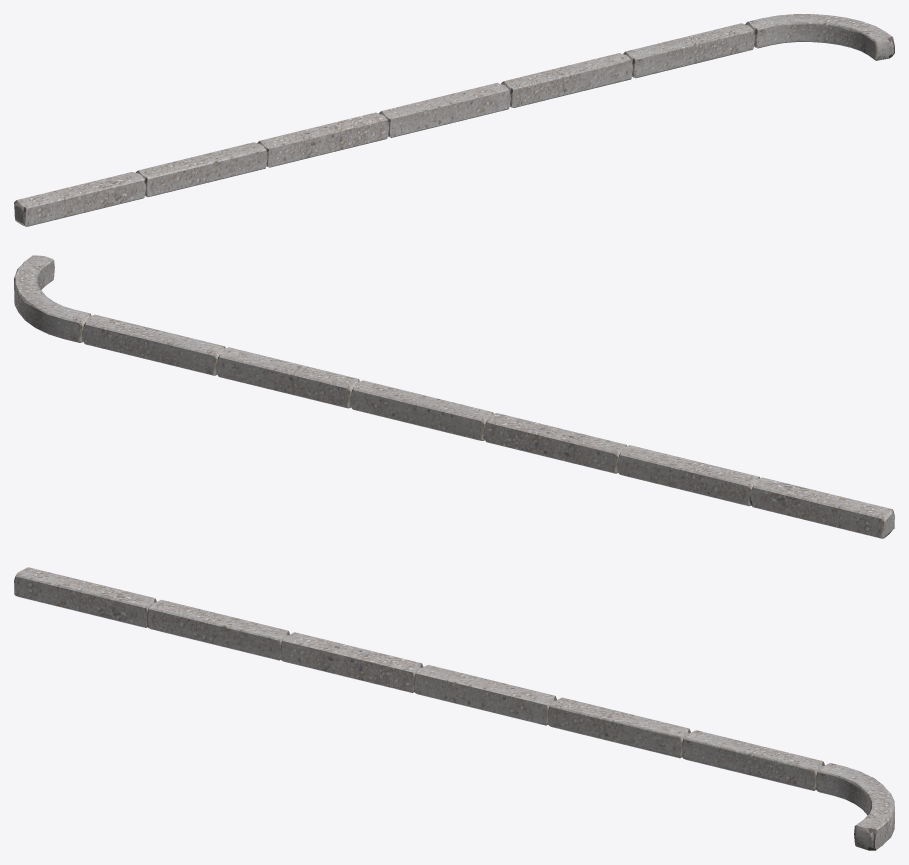
Rendered from Curb.glb.
The picture shows the model from 3 angles, top to bottom: view 1: azimuth 30°, elevation 25°; view 2: azimuth 150°, elevation 25°; view 3: azimuth 330°, elevation 25°; orthographic projection. The views are drawn at different scales.
Visible parts, largest first — view 1: CurbType1.002, CurbType6, CurbType2, CurbType1, CurbType3, CurbType4, CurbType5; view 2: CurbType6, CurbType1, CurbType2, CurbType5, CurbType3, CurbType4, CurbType1.002; view 3: CurbType1, CurbType3, CurbType2, CurbType4, CurbType5, CurbType6, CurbType1.002.
Part boxes in pixels (<box>): CurbType1.002: <box>745,14,894,60</box>; CurbType6: <box>14,172,146,226</box>; CurbType2: <box>501,53,632,107</box>; CurbType1: <box>623,23,755,78</box>; CurbType3: <box>379,83,510,137</box>; CurbType4: <box>257,112,388,167</box>; CurbType5: <box>135,142,267,197</box>; CurbType6: <box>749,477,894,538</box>; CurbType1: <box>81,314,225,375</box>; CurbType2: <box>215,347,359,408</box>; CurbType5: <box>616,445,760,506</box>; CurbType3: <box>349,380,493,440</box>; CurbType4: <box>483,413,626,473</box>; CurbType1.002: <box>14,255,91,342</box>; CurbType1: <box>682,730,824,790</box>; CurbType3: <box>414,665,556,725</box>; CurbType2: <box>548,697,690,758</box>; CurbType4: <box>280,632,423,692</box>; CurbType5: <box>147,599,289,660</box>; CurbType6: <box>14,567,156,627</box>; CurbType1.002: <box>816,763,894,850</box>.
Size of the model in its own units: 2.28 by 0.0524 by 0.2566.
1 material, 1 textured.
